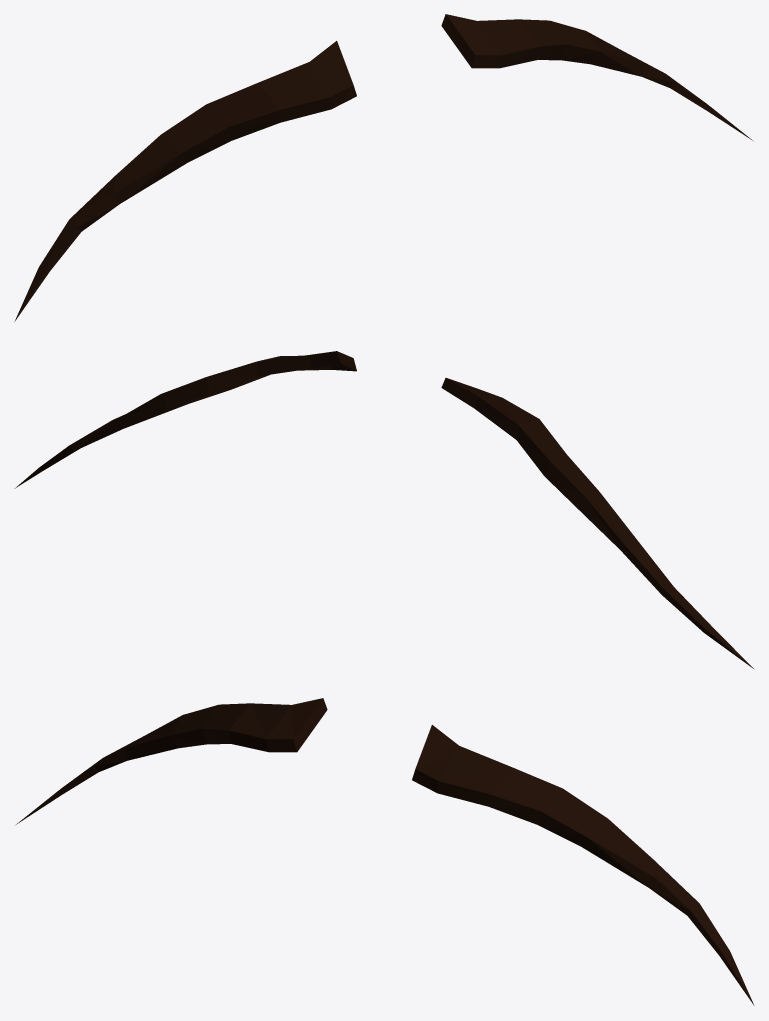
The model's file is Brow 07.FBX.
3 renders of one model, top to bottom at view 1: azimuth 30°, elevation 25°; view 2: azimuth 150°, elevation 25°; view 3: azimuth 330°, elevation 25°, orthographic.
Parts seen in each view (by area): view 1: Brow 07; view 2: Brow 07; view 3: Brow 07.
Boxes of the visible parts, bbox=[...] form: Brow 07: bbox=[14, 14, 752, 321]; Brow 07: bbox=[14, 351, 754, 669]; Brow 07: bbox=[16, 698, 754, 1005].
Bounding box in the file's own units: 33.09 × 8.97 × 3.76.
